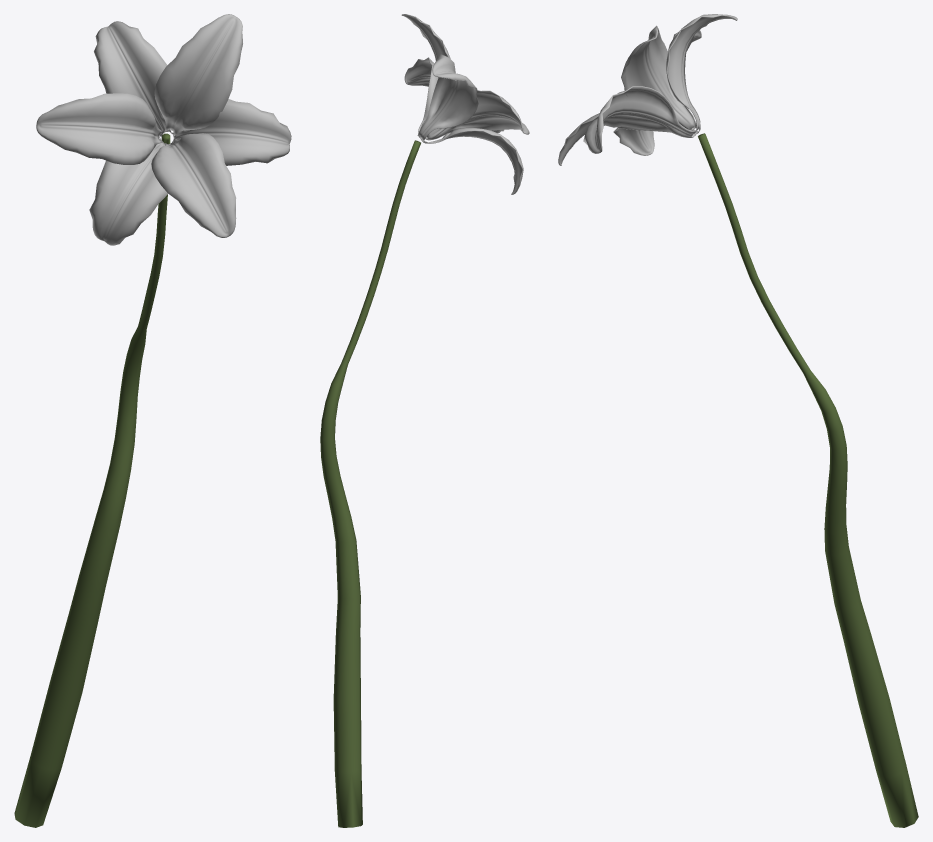
The model's file is rose2curve1.glb.
3 views of the same model, side by side, from view 1: azimuth 30°, elevation 25°; view 2: azimuth 150°, elevation 25°; view 3: azimuth 270°, elevation 25° (orthographic). The views are drawn at different scales.
Parts seen in each view (by area): view 1: flower_set_01_lilies.001, flower_set_01_lilies; view 2: flower_set_01_lilies, flower_set_01_lilies.001; view 3: flower_set_01_lilies, flower_set_01_lilies.001.
Part boxes in pixels (x1=…): flower_set_01_lilies.001: x1=36, y1=14, x2=291, y2=245; flower_set_01_lilies: x1=14, y1=133, x2=170, y2=827; flower_set_01_lilies: x1=320, y1=140, x2=420, y2=827; flower_set_01_lilies.001: x1=401, y1=14, x2=529, y2=194; flower_set_01_lilies: x1=698, y1=133, x2=918, y2=827; flower_set_01_lilies.001: x1=558, y1=14, x2=737, y2=165.
Bounding box in the file's own units: 33.75 × 142 × 56.47.
